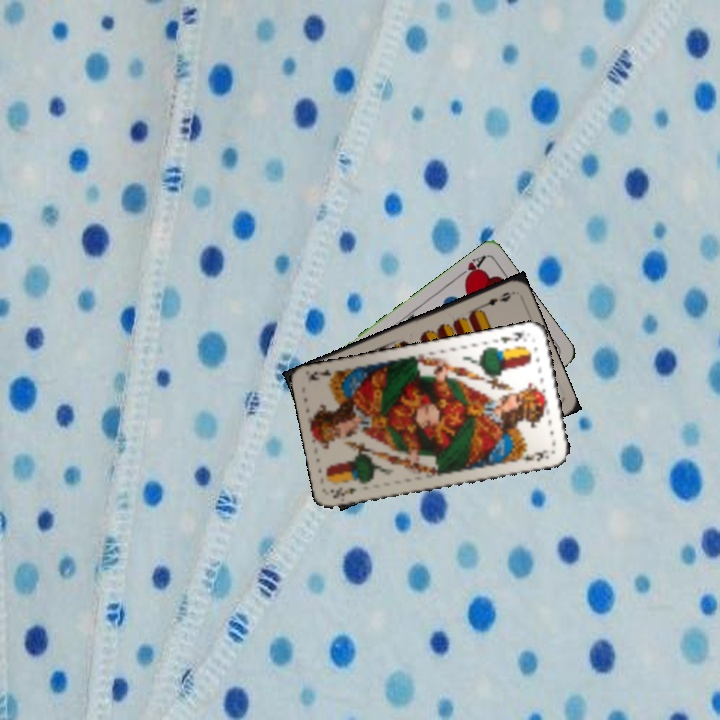E9: (476, 288, 514, 314)
EK: (496, 327, 527, 346), (328, 484, 358, 502)
HA: (453, 251, 488, 285)
